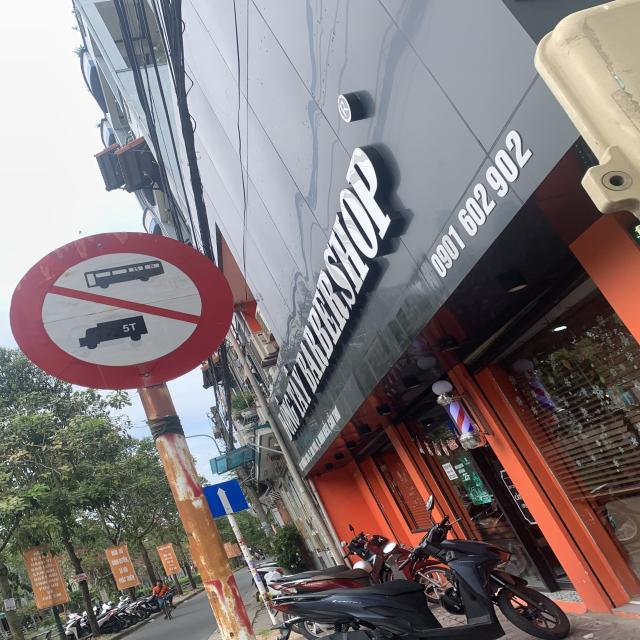Cam_XeTai_XeKhach: (8, 228, 234, 392)
